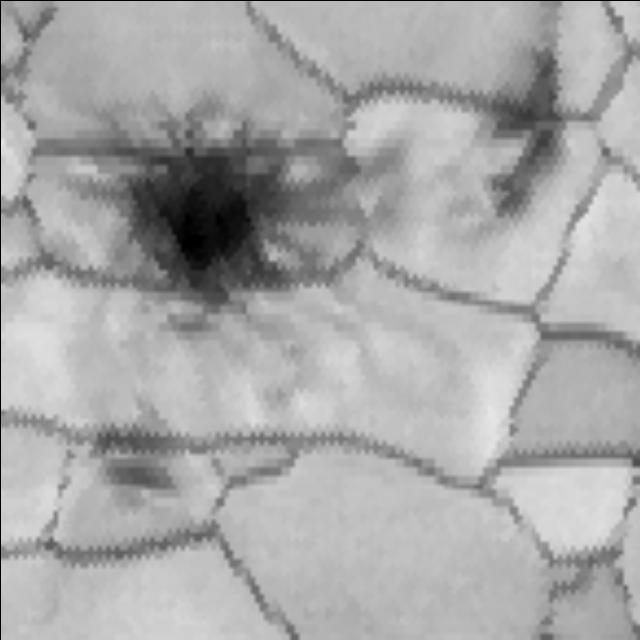good_void: (53, 94, 407, 339), (467, 40, 572, 222), (90, 437, 195, 519), (537, 559, 595, 615)
